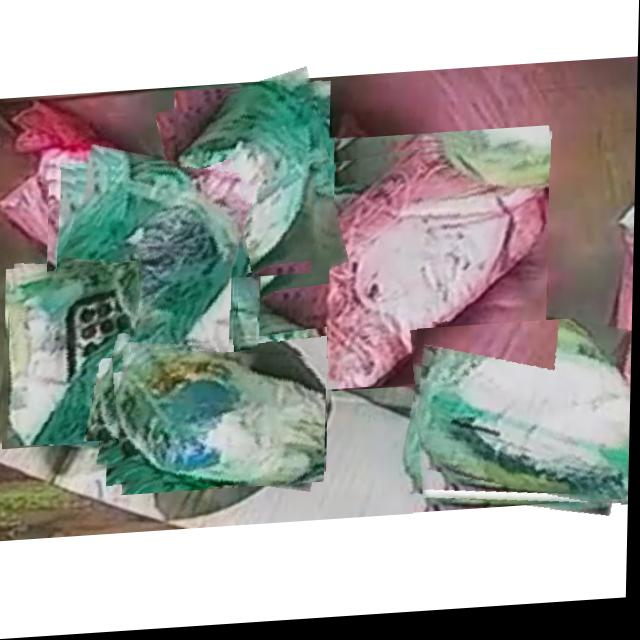general_trashbag: (48, 166, 240, 378), (117, 350, 327, 490), (178, 92, 320, 282)
other_trashbag: (263, 151, 549, 395), (417, 328, 632, 514), (11, 269, 134, 445)
